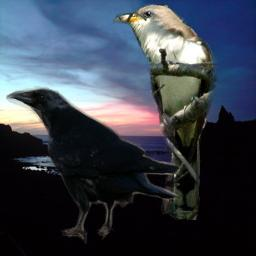Crow: (6, 86, 180, 244)
Cuckoo: (113, 4, 218, 220)
